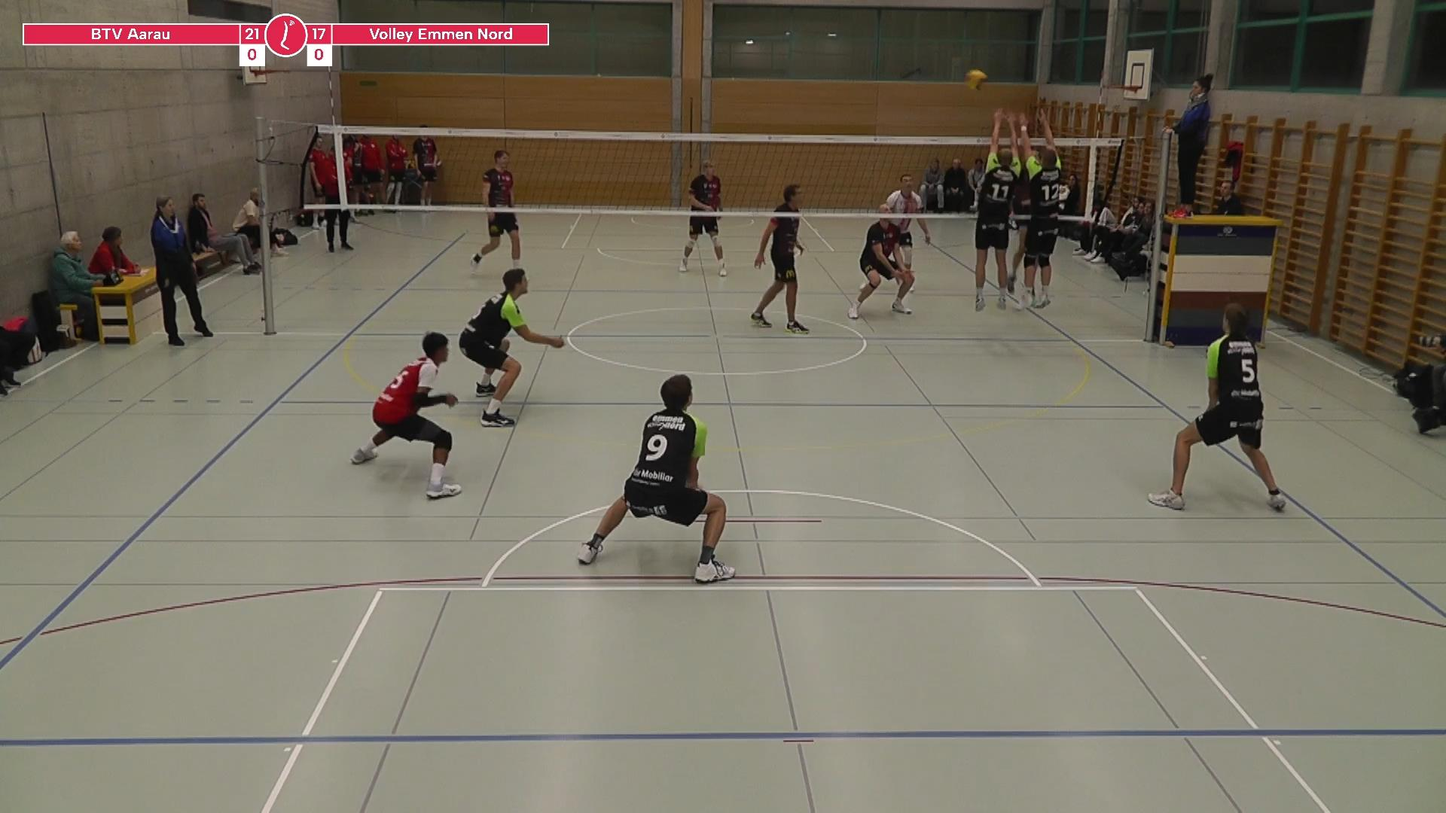Block: (1016, 108, 1068, 313), (973, 109, 1022, 315)
Player: (578, 375, 734, 583), (1149, 303, 1285, 510), (352, 332, 460, 498), (459, 268, 564, 427), (751, 184, 809, 333), (848, 204, 914, 318), (472, 150, 521, 267), (679, 160, 725, 276)
ball: (964, 69, 987, 89)
